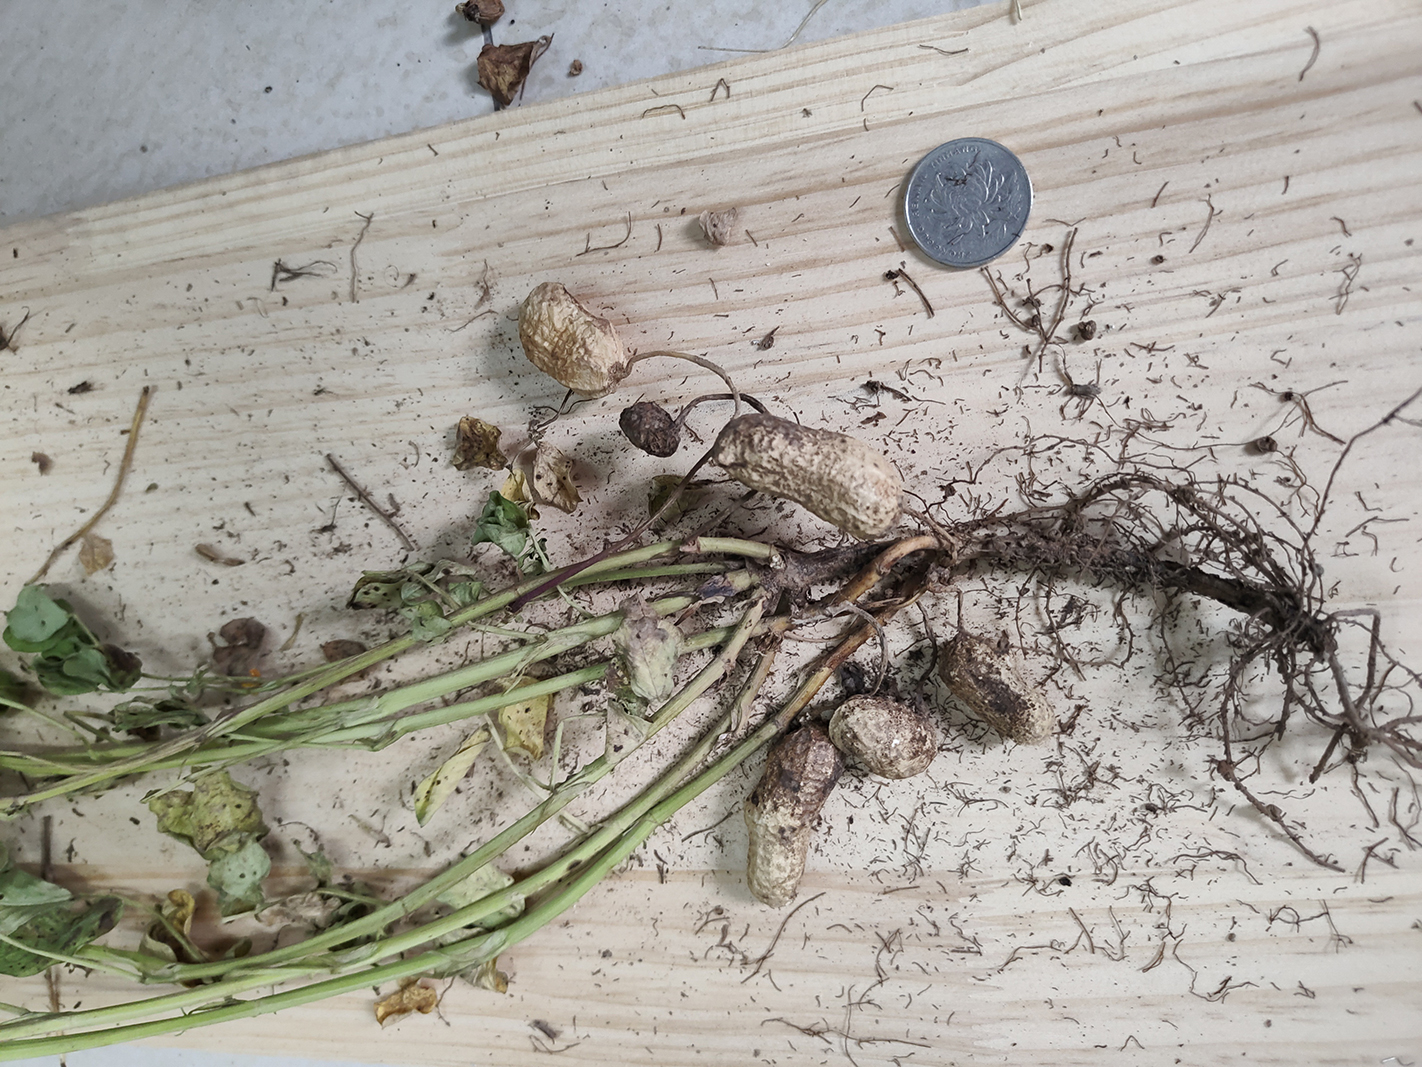h: (712, 412, 907, 538), (742, 722, 836, 909), (519, 280, 631, 395), (829, 693, 935, 779)
l: (942, 634, 1054, 746), (621, 399, 679, 456)
